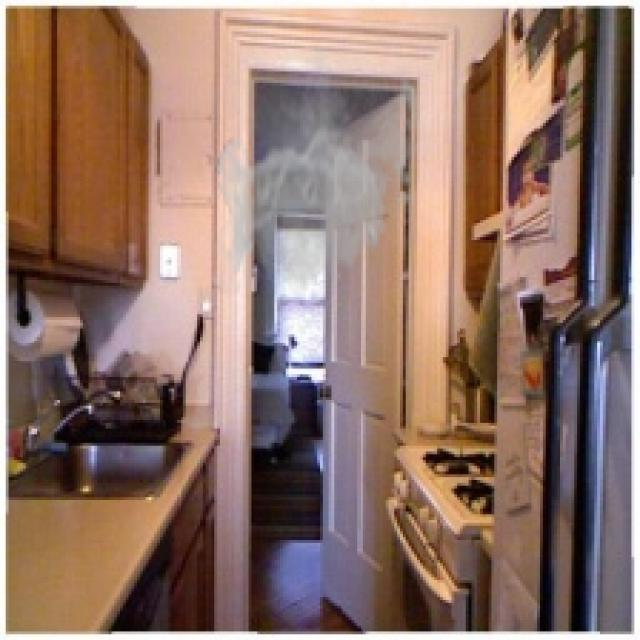Smoke: (211, 46, 426, 300)
